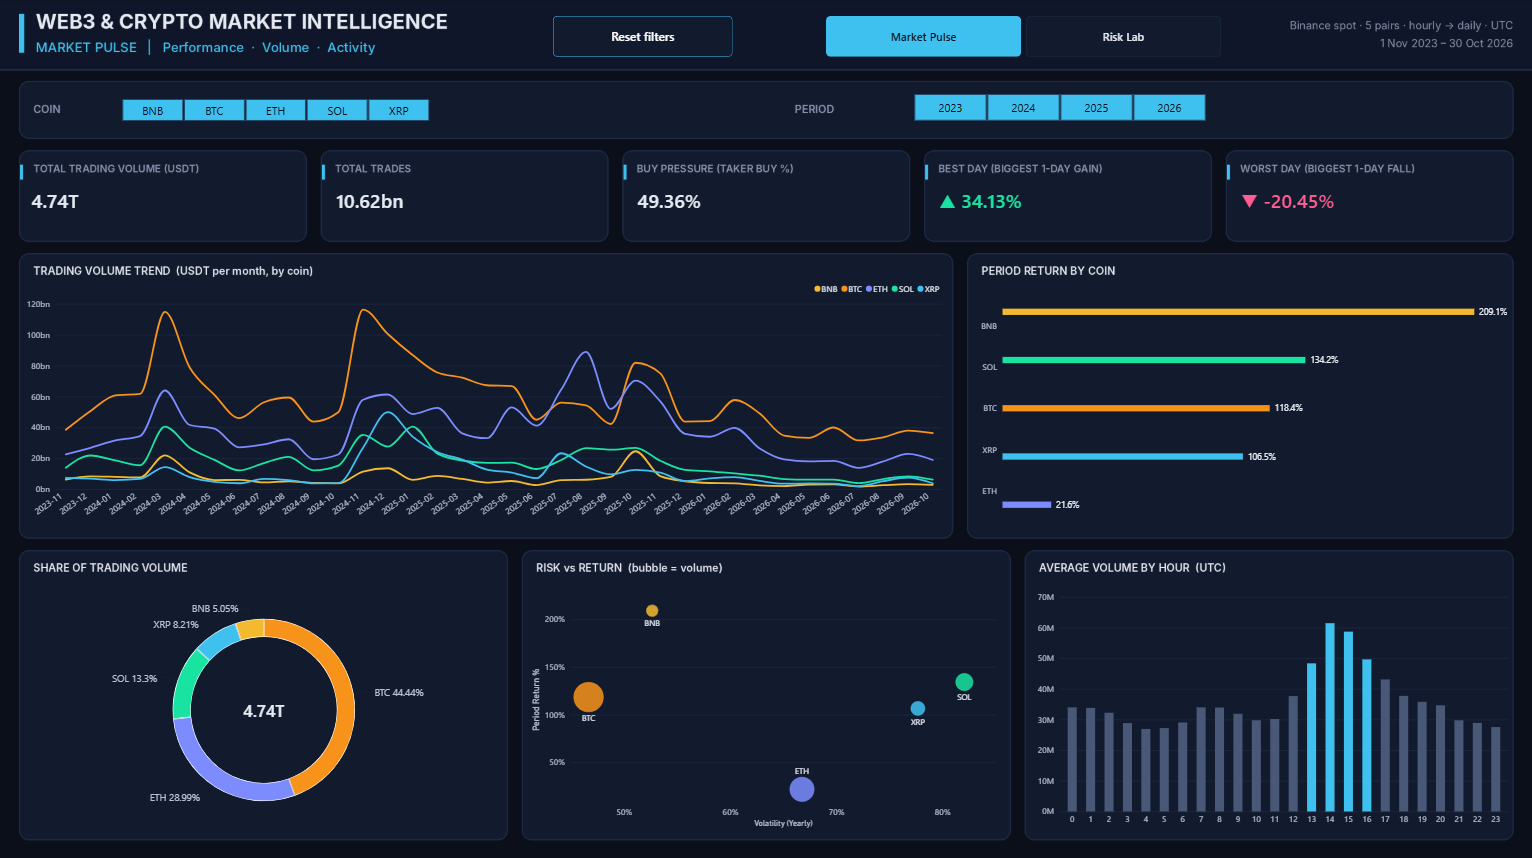

What the dashboard file says about the page in this screenshot:
{"tool":"powerbi","page":{"name":"Market Pulse","canvas":[2560,1440],"ordinal":0},"visuals":[{"type":"slicer","fields":{"Values":["dim_coin.ticker"]},"box":[184.4,164.9,552,40],"z":0},{"type":"slicer","fields":{"Values":["dim_date.Year"]},"box":[1507.4,157.8,526,48],"z":1000},{"type":"cardVisual","fields":{"Data":["_Measures.Total Volume (USDT)"]},"box":[28.4,253.6,484.1,150.7],"z":2000},{"type":"cardVisual","fields":{"Data":["_Measures.Total Trades"]},"box":[537.3,253.6,477,150.7],"z":3000},{"type":"cardVisual","fields":{"Data":["_Measures.Buy Pressure %"]},"box":[1041,253.6,484.1,150.7],"z":4000},{"type":"cardVisual","fields":{"Data":["_Measures.Best Day"]},"box":[1544.6,253.6,477,150.7],"z":5000},{"type":"cardVisual","fields":{"Data":["_Measures.Worst Day"]},"box":[2050,248.3,484.1,163.2],"z":6000},{"type":"lineChart","fields":{"Category":["dim_date.Year-Month"],"Series":["dim_coin.ticker"],"Y":["_Measures.Total Volume (USDT)"]},"box":[27.6,467.5,1562.9,427.8],"z":7000},{"type":"clusteredBarChart","fields":{"Category":["dim_coin.ticker"],"Series":["dim_coin.ticker"],"Y":["_Measures.Period Return %"]},"box":[1619.1,468.2,915.1,427.4],"z":8000},{"type":"donutChart","fields":{"Category":["dim_coin.ticker"],"Y":["_Measures.Total Volume (USDT)"]},"box":[28.4,973.6,824.6,427.4],"z":9000},{"type":"scatterChart","fields":{"Category":["dim_coin.ticker"],"Series":["dim_coin.ticker"],"Size":["_Measures.Total Volume (USDT)"],"X":["_Measures.Volatility (Yearly)"],"Y":["_Measures.Period Return %"]},"box":[872.5,973.6,821.1,427.4],"z":10000},{"type":"clusteredColumnChart","fields":{"Category":["fact_hourly.hour_utc"],"Y":["Avg(fact_hourly.quote_volume)"]},"box":[1716.7,973.6,817.5,427.4],"z":11000},{"type":"actionButton","box":[924,28,300,68],"z":12000},{"type":"pageNavigator","box":[1380,28,660,68],"z":13000}]}

Visuals, with their boxes in screenshot pixels (x1, y1, x2, y2), scaled from the page's 2560x1440 canvas onto the 1532x858 screenshot:
slicer - dim_coin.ticker: 110/98/441/122
slicer - dim_date.Year: 902/94/1217/123
cardVisual - _Measures.Total Volume (USDT): 17/151/307/241
cardVisual - _Measures.Total Trades: 322/151/607/241
cardVisual - _Measures.Buy Pressure %: 623/151/913/241
cardVisual - _Measures.Best Day: 924/151/1210/241
cardVisual - _Measures.Worst Day: 1227/148/1517/245
lineChart - dim_date.Year-Month x dim_coin.ticker: 17/279/952/533
clusteredBarChart - dim_coin.ticker x dim_coin.ticker: 969/279/1517/534
donutChart - dim_coin.ticker x _Measures.Total Volume (USDT): 17/580/510/835
scatterChart - dim_coin.ticker x dim_coin.ticker: 522/580/1014/835
clusteredColumnChart - fact_hourly.hour_utc x Avg(fact_hourly.quote_volume): 1027/580/1517/835
actionButton: 553/17/732/57
pageNavigator: 826/17/1221/57
